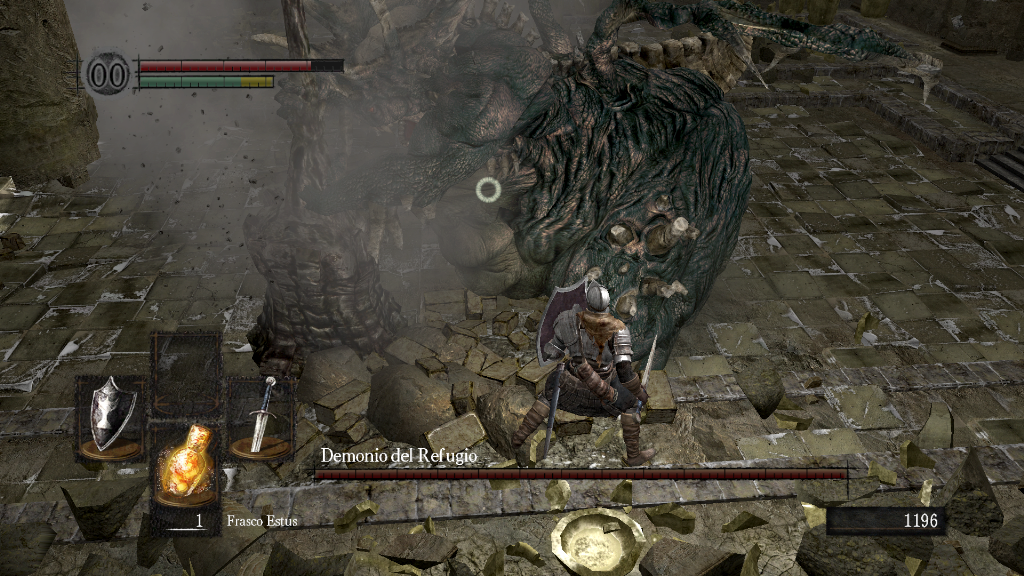asylumDemon: (247, 2, 753, 391)
bossHP: (314, 469, 847, 479)
health: (138, 58, 343, 71)
humanity: (80, 45, 136, 102)
player: (536, 278, 657, 464)
souls: (825, 506, 945, 536)
stamina: (138, 74, 274, 88)
